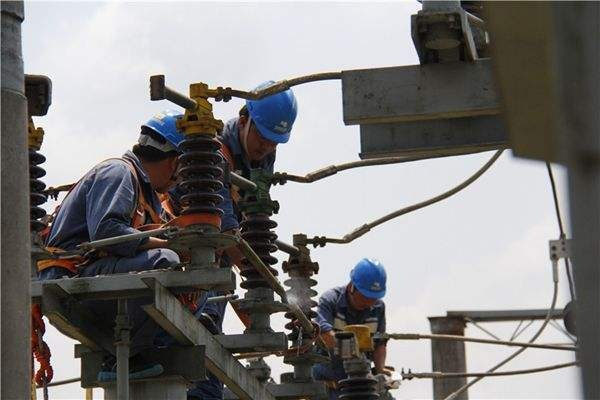blue: (134, 108, 196, 189), (237, 78, 300, 154), (344, 253, 389, 311)
